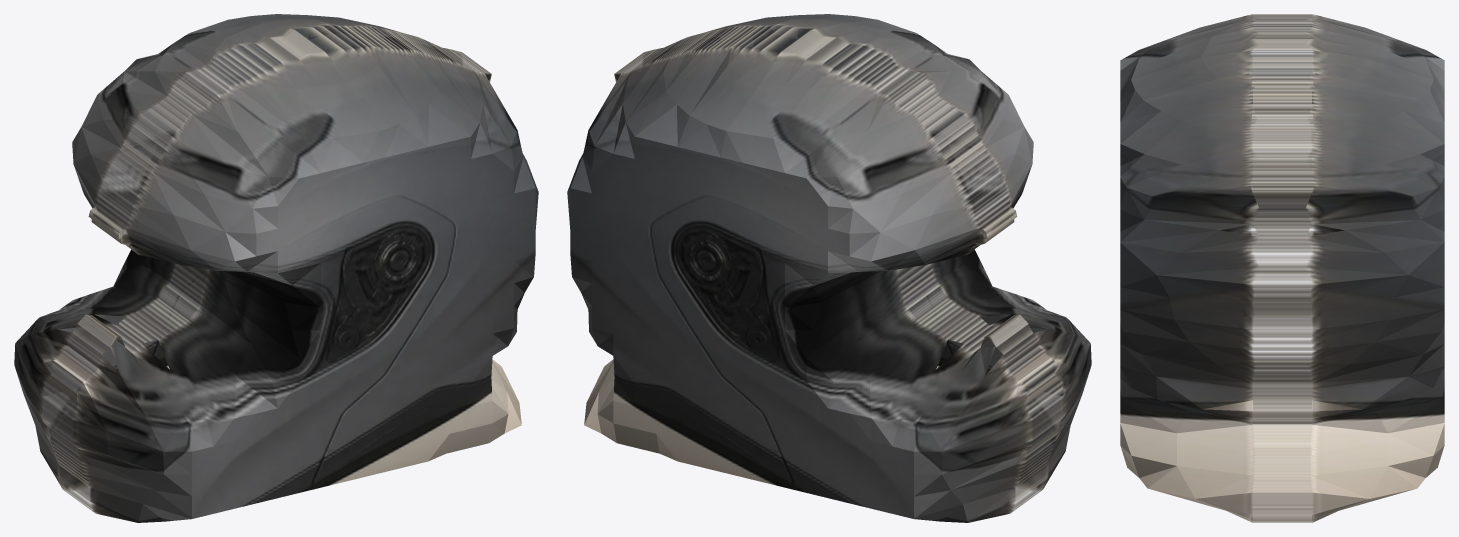
File: dainese-circuit-full-face-helmet-053.glb
The picture shows the model from 3 angles, left to right: view 1: azimuth 30°, elevation 25°; view 2: azimuth 150°, elevation 25°; view 3: azimuth 270°, elevation 25°; orthographic projection.
Visible parts, largest first — view 1: world; view 2: world; view 3: world.
Boxes of the visible parts, x1,y1,x2,y2 form: world: (14,14,538,522); world: (567,14,1091,522); world: (1120,14,1444,522).
Size of the model in its own units: 1 by 0.8929 by 0.64.
1 material, 1 textured.
